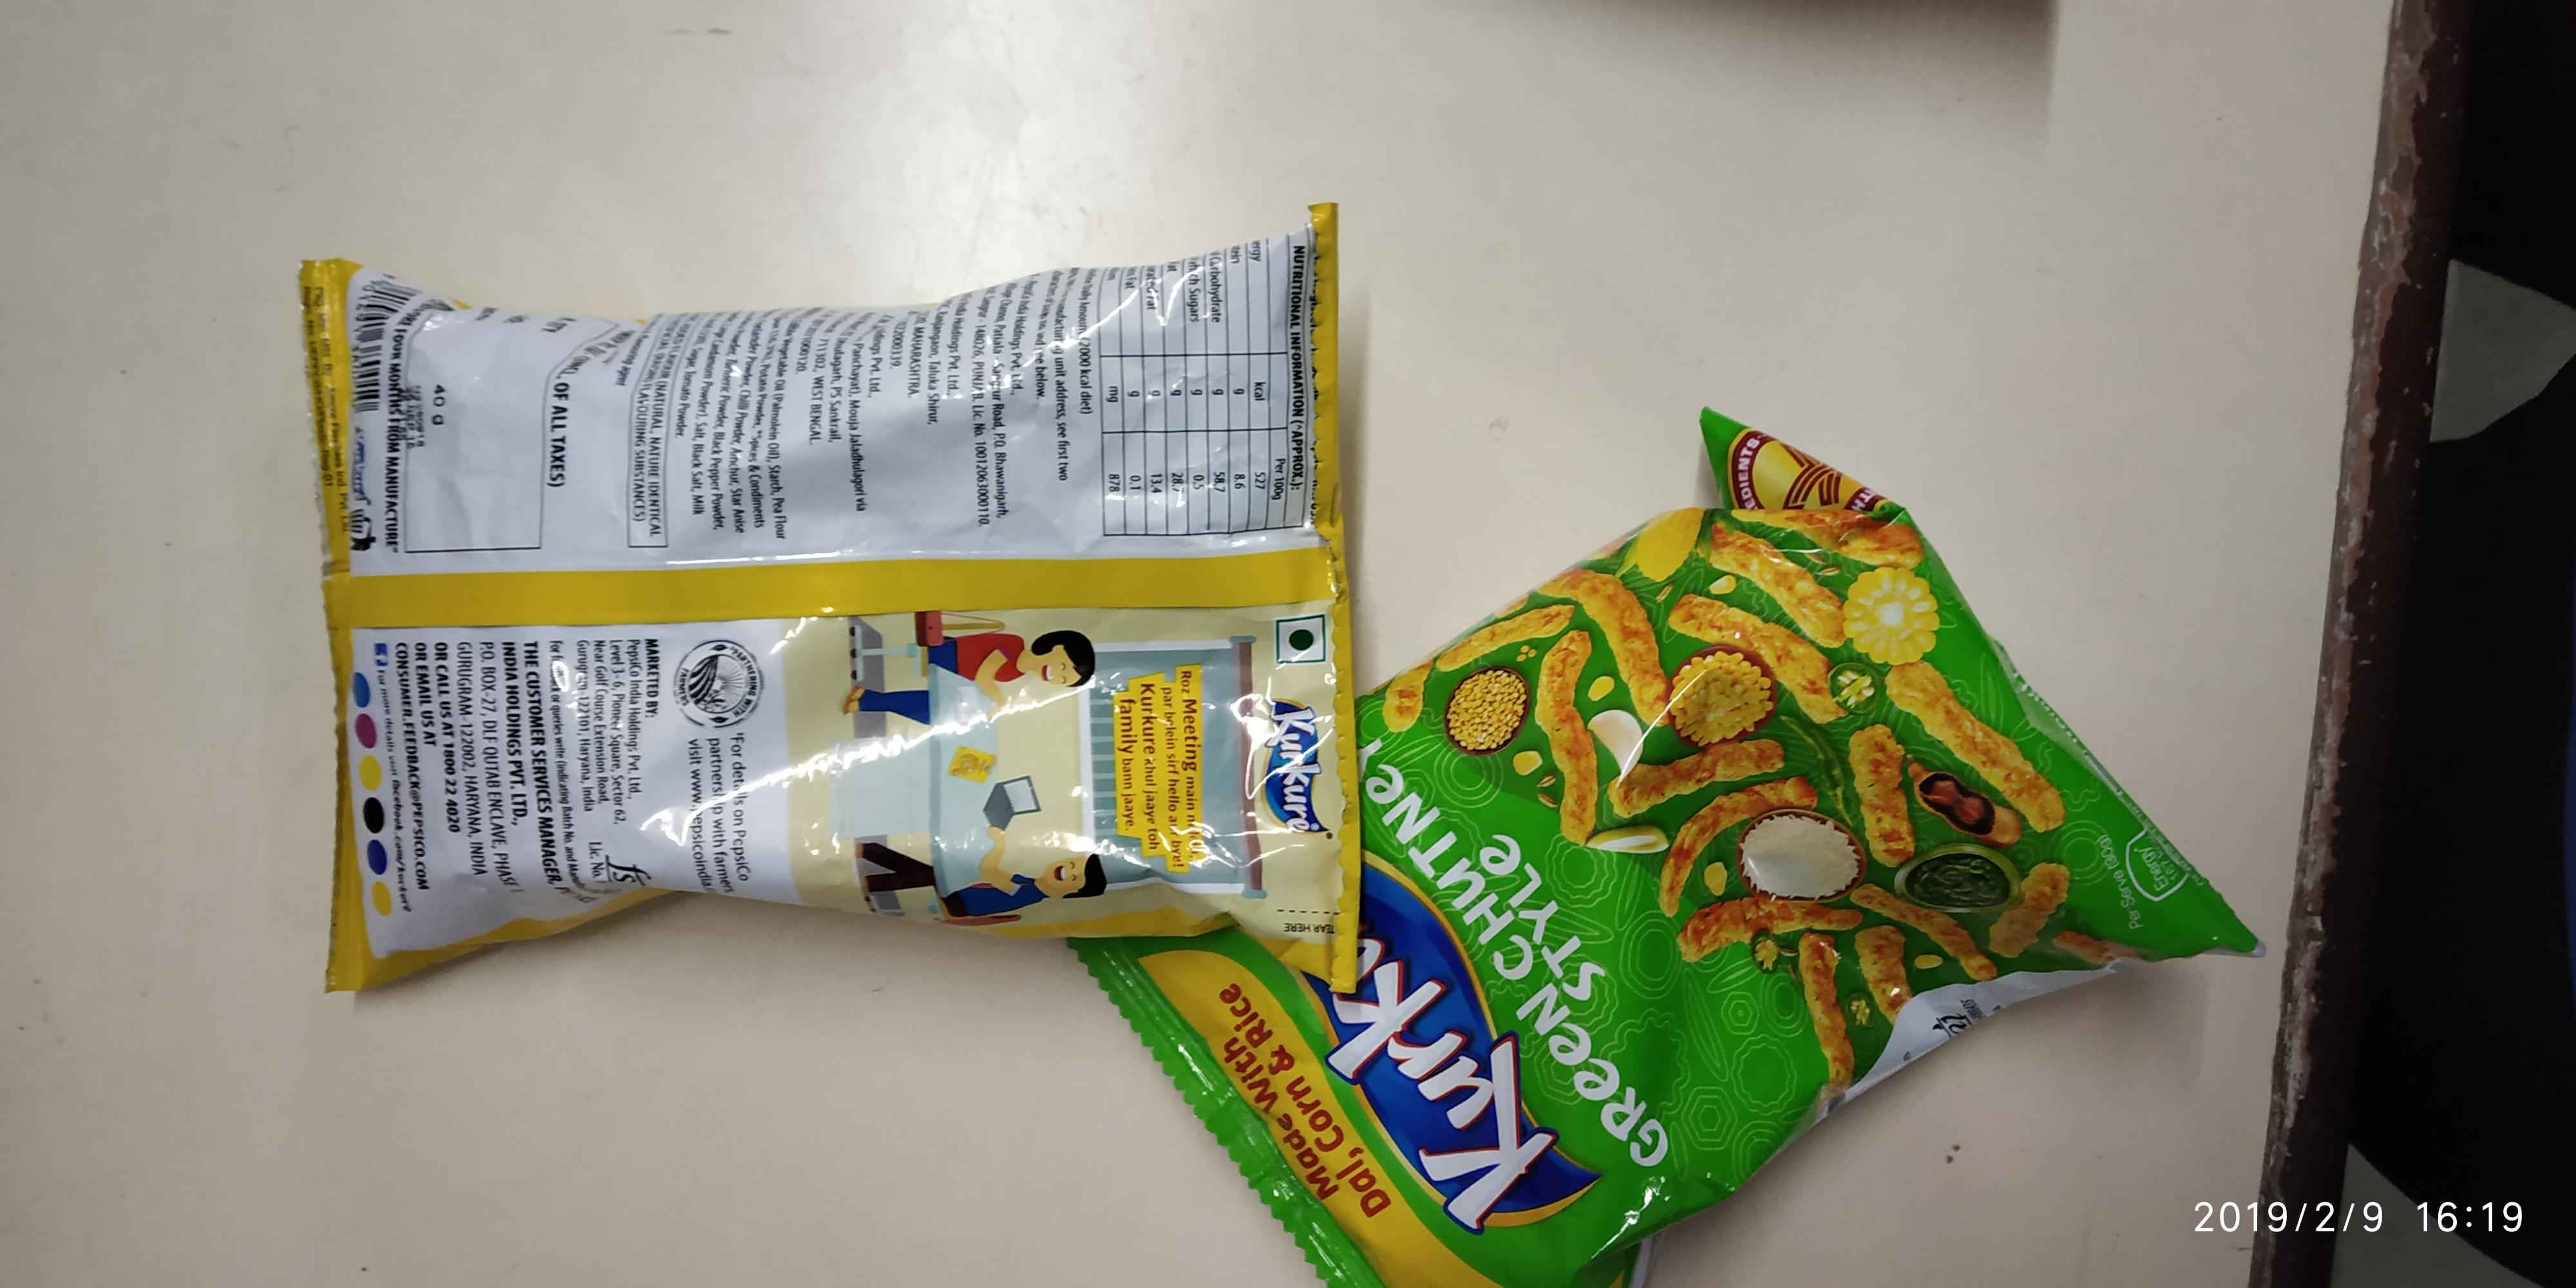kurkure: (1329, 867, 1592, 1239), (1244, 692, 1341, 856)
